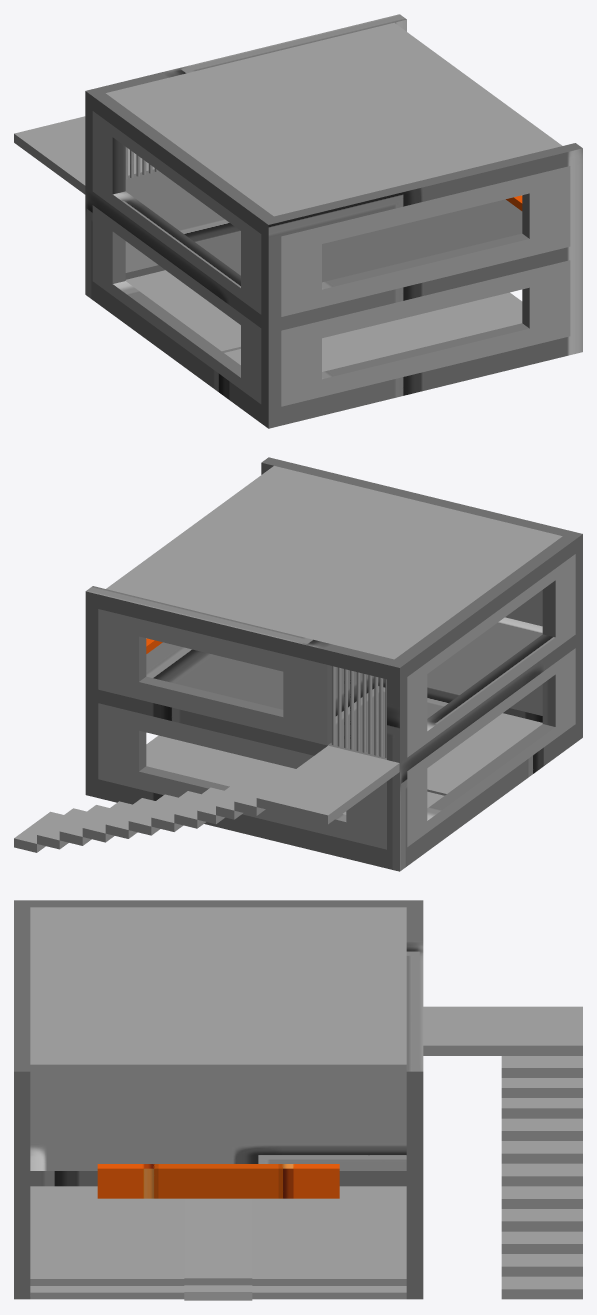
The model's file is Building01.fbx.
The picture shows the model from 3 angles, top to bottom: view 1: azimuth 30°, elevation 25°; view 2: azimuth 150°, elevation 25°; view 3: azimuth 270°, elevation 25°; orthographic projection. The views are drawn at different scales.
Parts seen in each view (by area): view 1: Building01; view 2: Building01, Grill; view 3: Building01.
Part boxes in pixels (x1,y1,x2,y2): Building01: (14,14,582,428); Building01: (14,457,582,871); Grill: (331,666,386,758); Building01: (14,900,582,1300).
Size of the model in its own units: 1131 by 696 by 1576.
